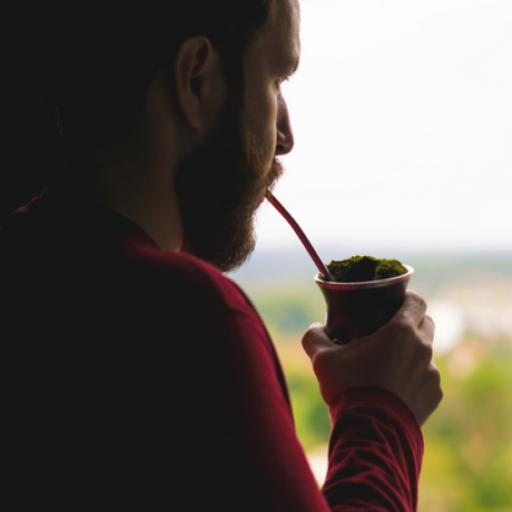mate: (259, 185, 413, 342)
